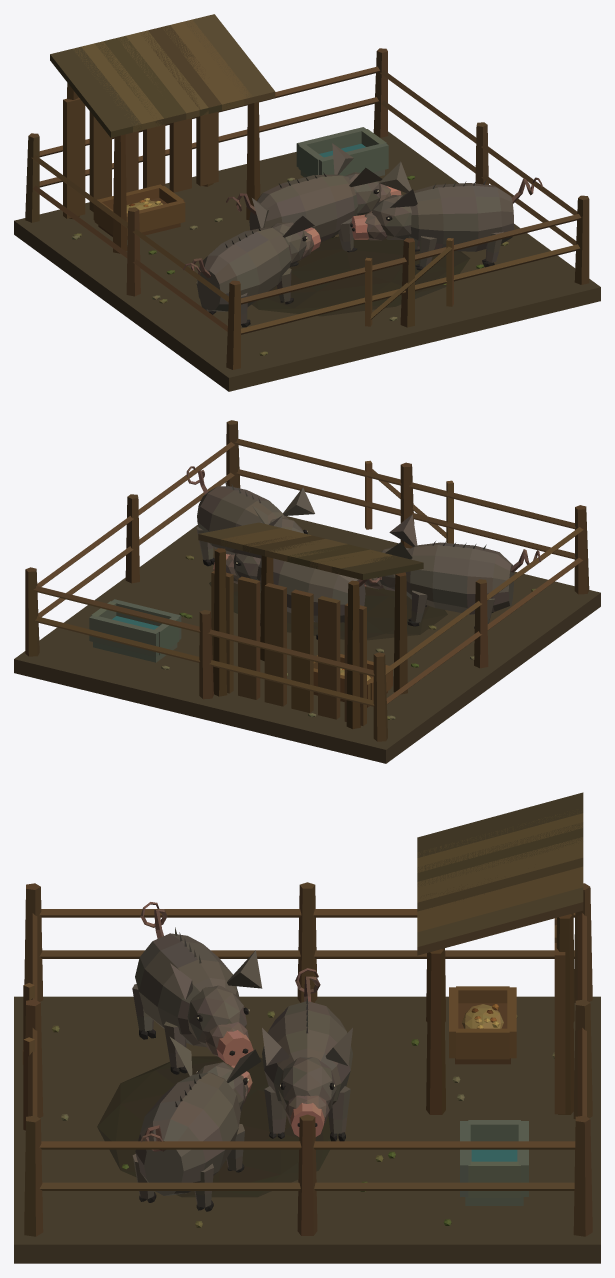
Rendered from elevage_cochon_moyen.glb.
The picture shows the model from 3 angles, top to bottom: view 1: azimuth 30°, elevation 25°; view 2: azimuth 150°, elevation 25°; view 3: azimuth 270°, elevation 25°; orthographic projection. The views are drawn at different scales.
Visible parts, largest first — view 1: Enclos_moyen, Cochon_02, Cochon_01, Cochon_00; view 2: Enclos_moyen, Cochon_01, Cochon_02, Cochon_00; view 3: Enclos_moyen, Cochon_01, Cochon_02, Cochon_00.
Part boxes in pixels (bbox=[...]): Enclos_moyen: bbox=[14, 14, 600, 391]; Cochon_02: bbox=[350, 161, 542, 270]; Cochon_01: bbox=[183, 198, 320, 327]; Cochon_00: bbox=[226, 143, 401, 266]; Enclos_moyen: bbox=[14, 420, 600, 763]; Cochon_01: bbox=[364, 514, 540, 628]; Cochon_02: bbox=[186, 466, 314, 566]; Cochon_00: bbox=[213, 515, 381, 639]; Enclos_moyen: bbox=[14, 792, 600, 1263]; Cochon_01: bbox=[132, 902, 262, 1074]; Cochon_02: bbox=[132, 1037, 261, 1211]; Cochon_00: bbox=[262, 968, 352, 1141].
Bounding box in the file's own units: 0.502 × 0.2293 × 0.502.
